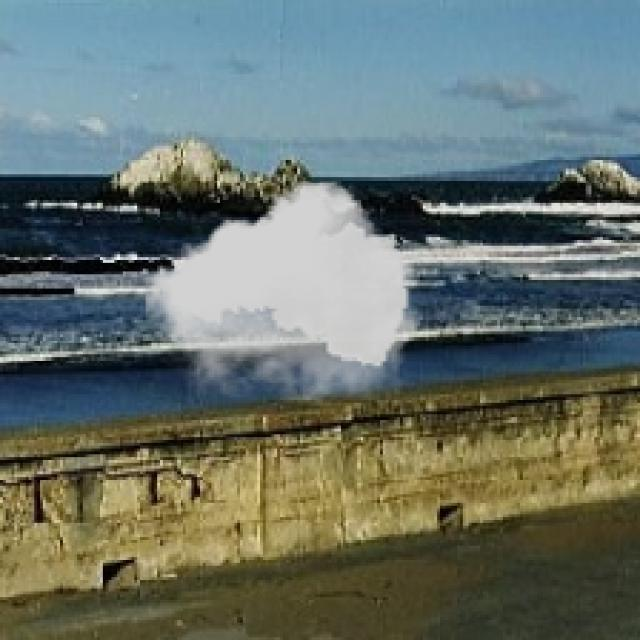smoke: (146, 180, 420, 400)
